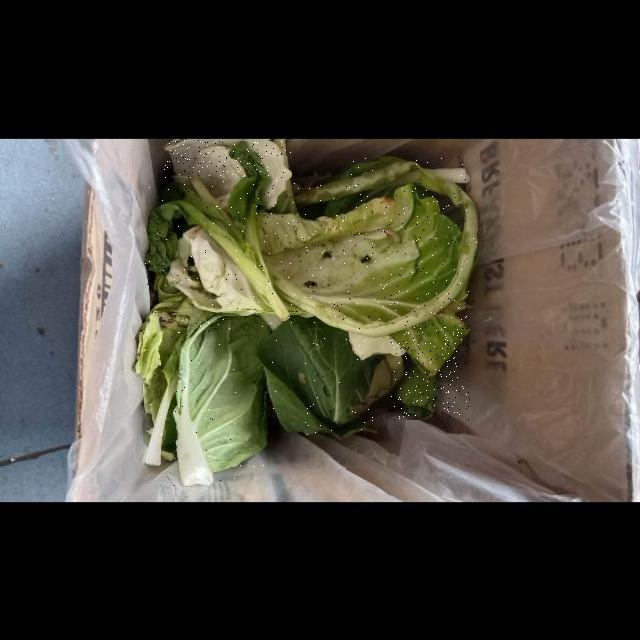biowaste: (270, 156, 478, 339), (257, 184, 464, 325), (144, 178, 289, 342), (144, 314, 270, 487), (259, 314, 376, 436), (165, 225, 274, 319), (391, 315, 470, 419), (165, 140, 248, 212), (245, 140, 292, 211)
